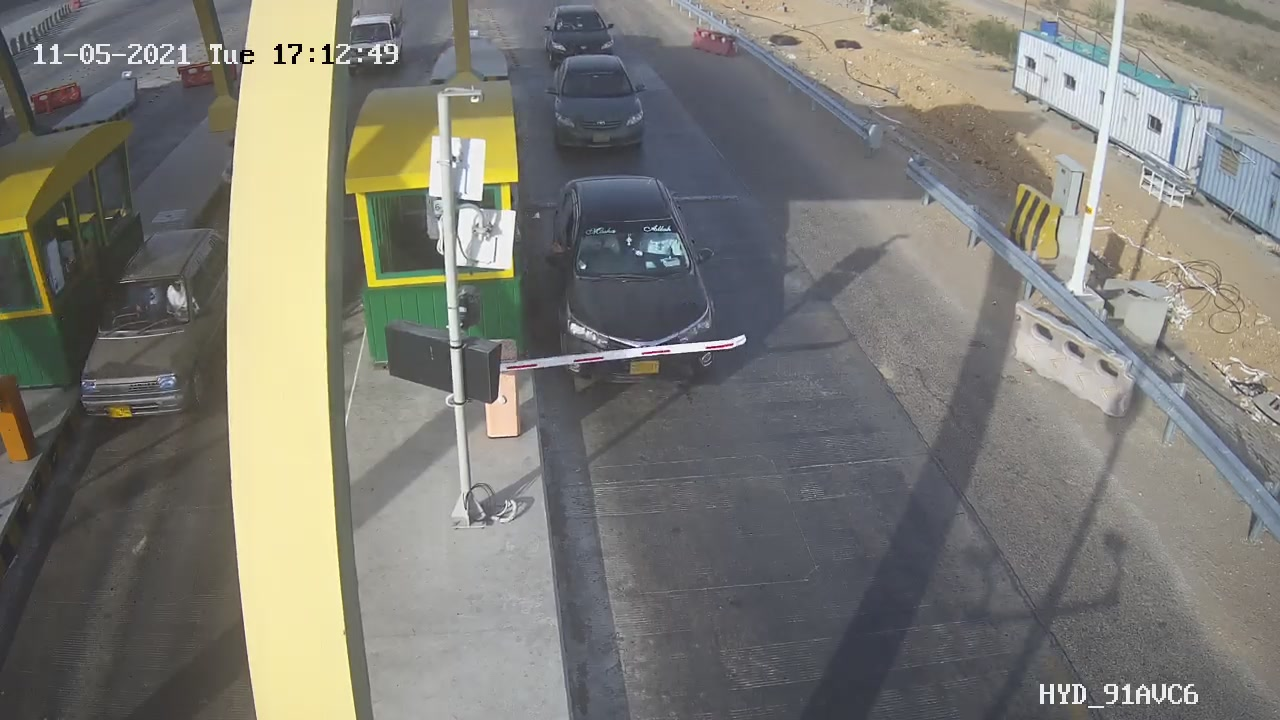F1: (527, 159, 748, 407), (530, 39, 664, 160)
